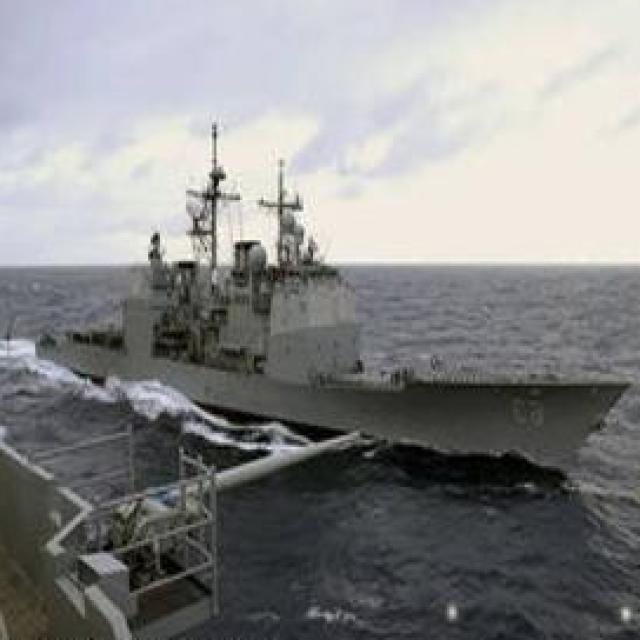navalvessels: (20, 136, 636, 528)
